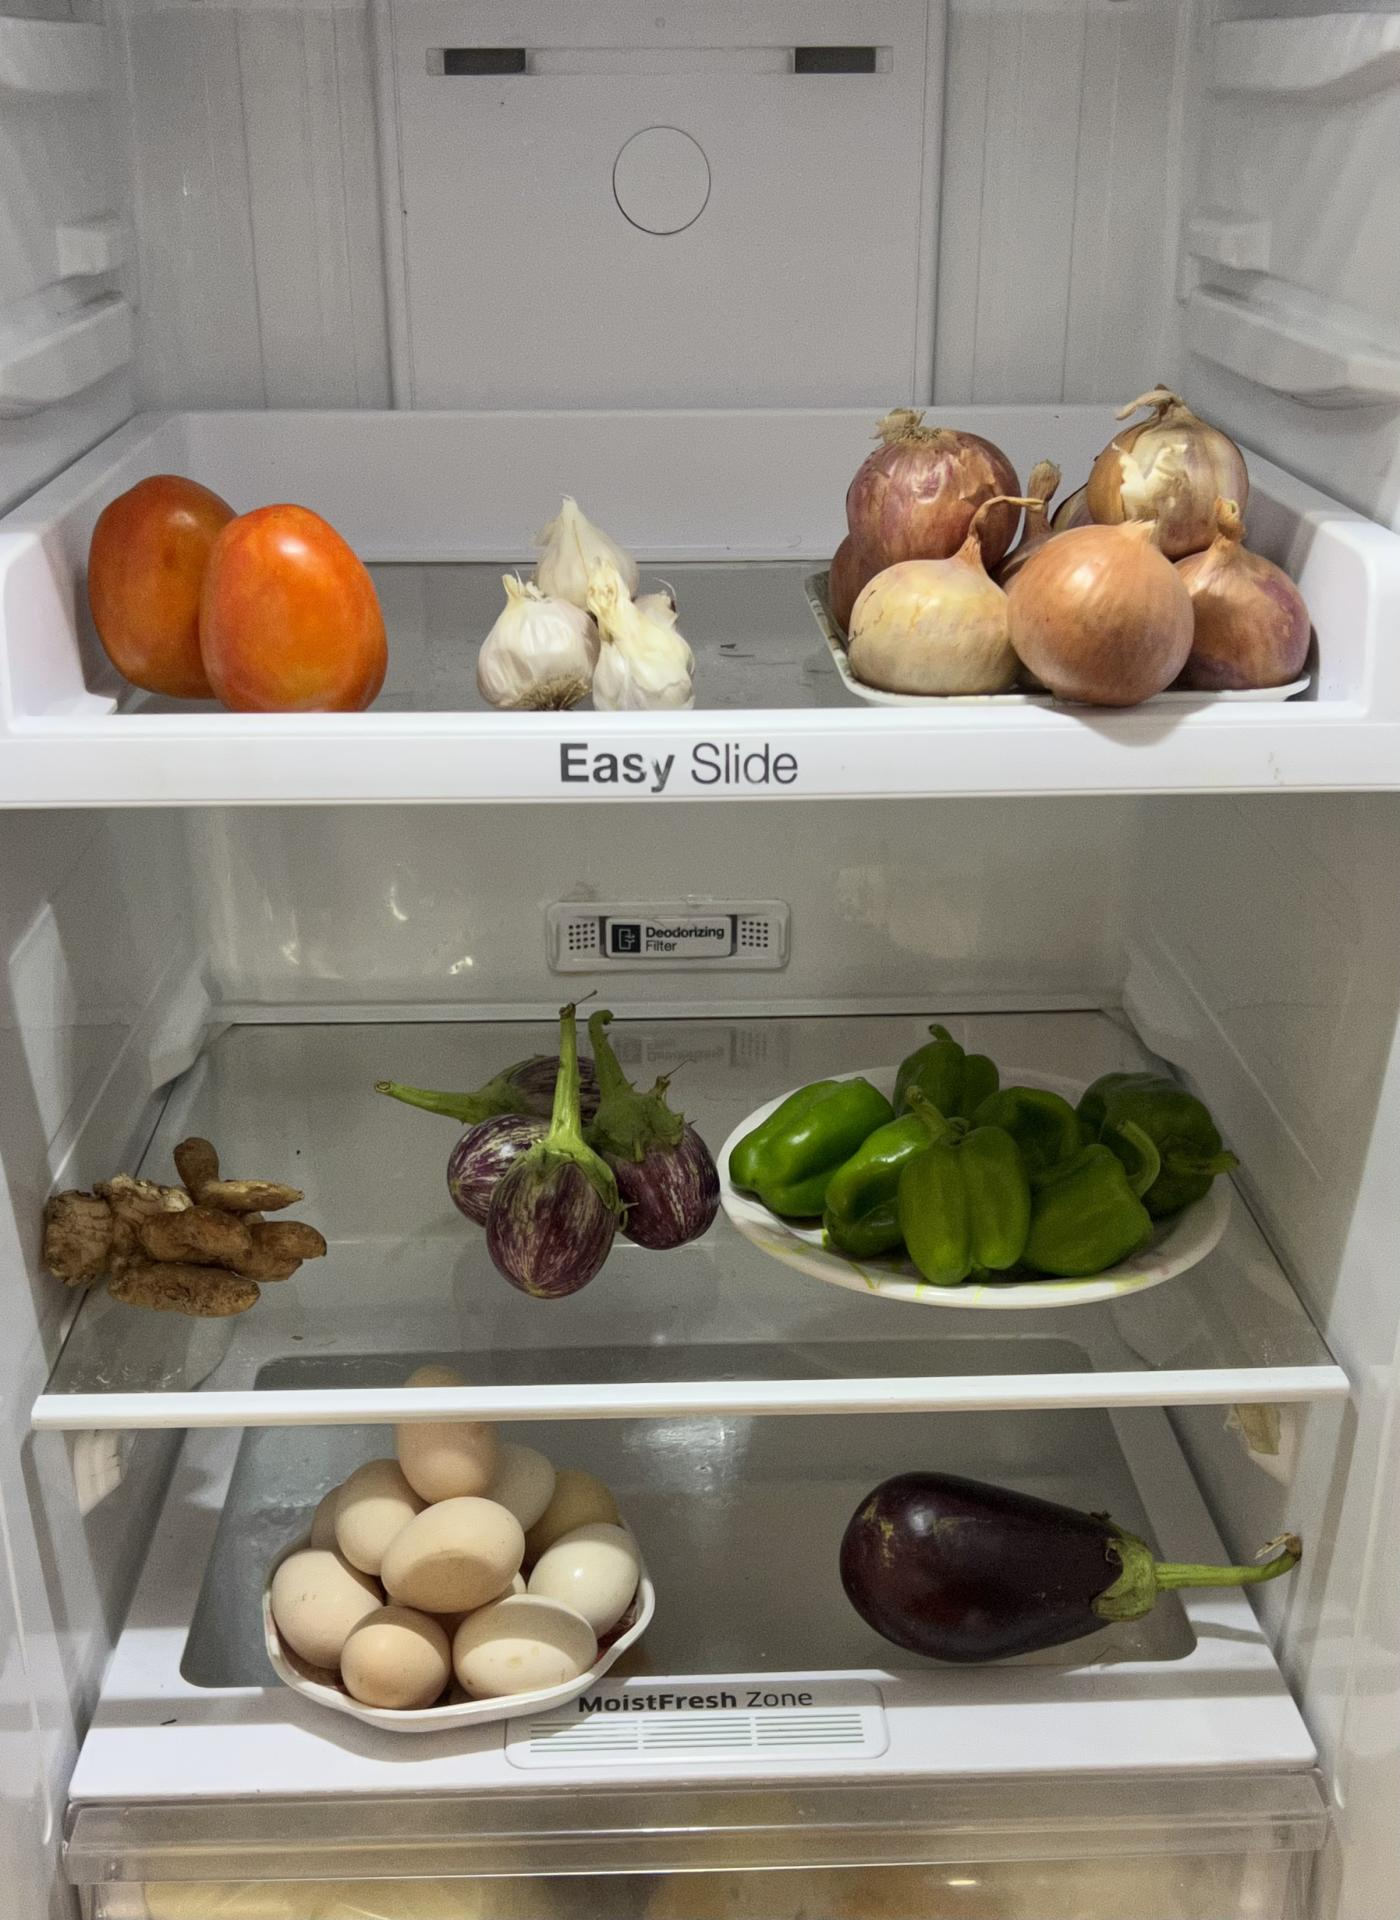capsicum: (728, 1030, 1245, 1280)
egg: (258, 1425, 646, 1710)
garlic: (477, 487, 704, 713)
ginger: (31, 1125, 335, 1321)
onion: (832, 408, 1333, 704)
tomato: (85, 474, 392, 711)
